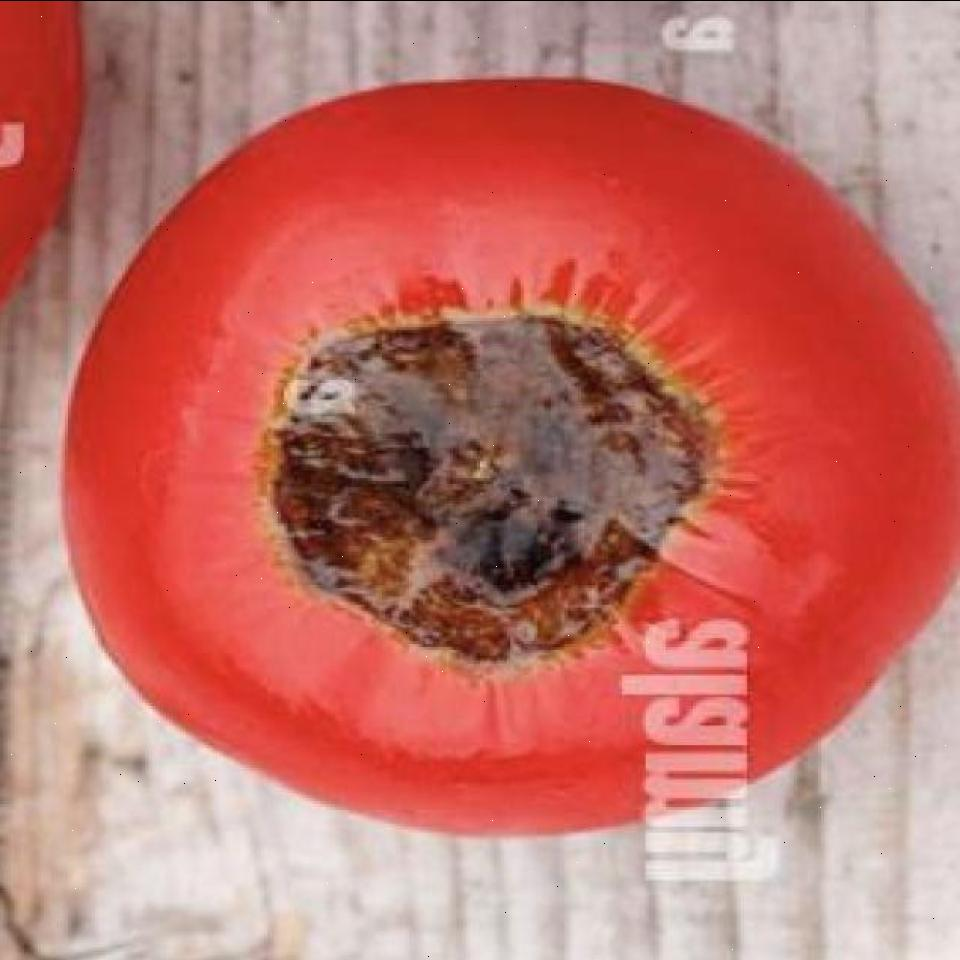Blossom_end_rot: (248, 302, 718, 664)
